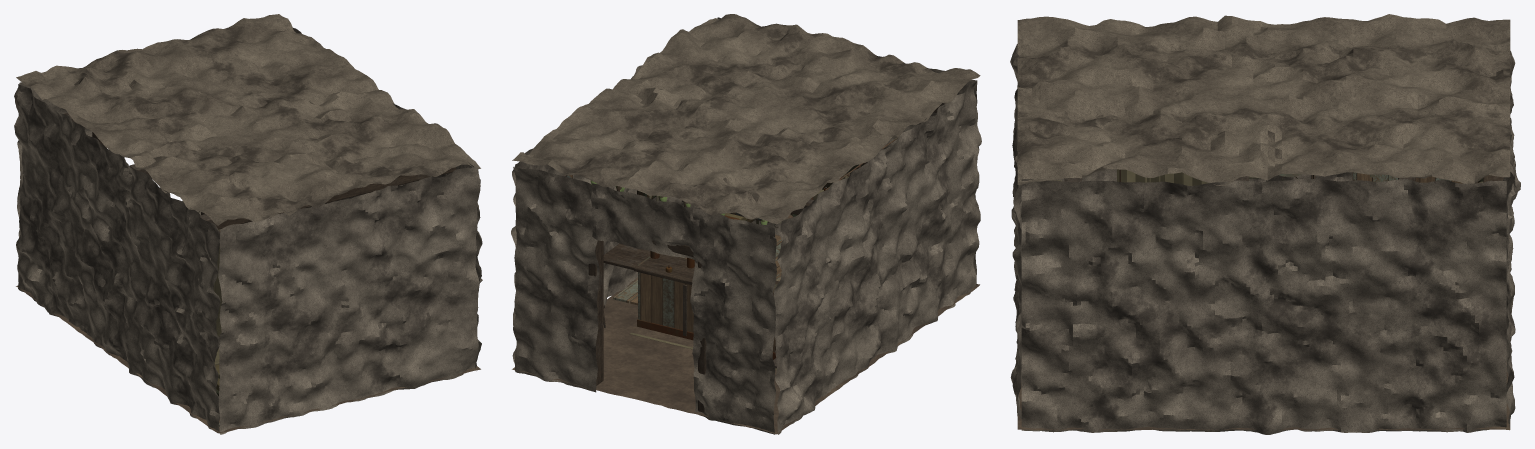
Rendered from env_sanctuary_clinic.gltf.
3 views of the same model, side by side, from view 1: azimuth 30°, elevation 25°; view 2: azimuth 150°, elevation 25°; view 3: azimuth 270°, elevation 25° (orthographic). The views are drawn at different scales.
Visible parts, largest first — view 1: clinic_rock_mine_01, clinic_rock_mine_02, clinic_timber_mine_01, clinic_earth_packed_01; view 2: clinic_rock_mine_01, clinic_rock_mine_02, clinic_earth_packed_01, clinic_timber_mine_01, clinic_plank_survivor_01, clinic_metal_rust_01; view 3: clinic_rock_mine_01, clinic_rock_mine_02, clinic_earth_packed_01, clinic_cloth_bone_01.
Boxes of the visible parts, x1,y1,x2,y2 form: clinic_rock_mine_01: [14, 28, 482, 434]; clinic_rock_mine_02: [16, 14, 480, 225]; clinic_timber_mine_01: [64, 113, 455, 229]; clinic_earth_packed_01: [16, 285, 480, 433]; clinic_rock_mine_01: [511, 17, 981, 434]; clinic_rock_mine_02: [512, 14, 980, 224]; clinic_earth_packed_01: [512, 234, 979, 434]; clinic_timber_mine_01: [562, 103, 945, 412]; clinic_plank_survivor_01: [613, 235, 781, 352]; clinic_metal_rust_01: [637, 251, 775, 359]; clinic_rock_mine_01: [1010, 26, 1520, 434]; clinic_rock_mine_02: [1017, 14, 1510, 185]; clinic_earth_packed_01: [1017, 362, 1510, 430]; clinic_cloth_bone_01: [1051, 169, 1209, 185].
Size of the model in its own units: 4.93 by 3.73 by 6.48.
Materials: 26 (22 with a texture image).
